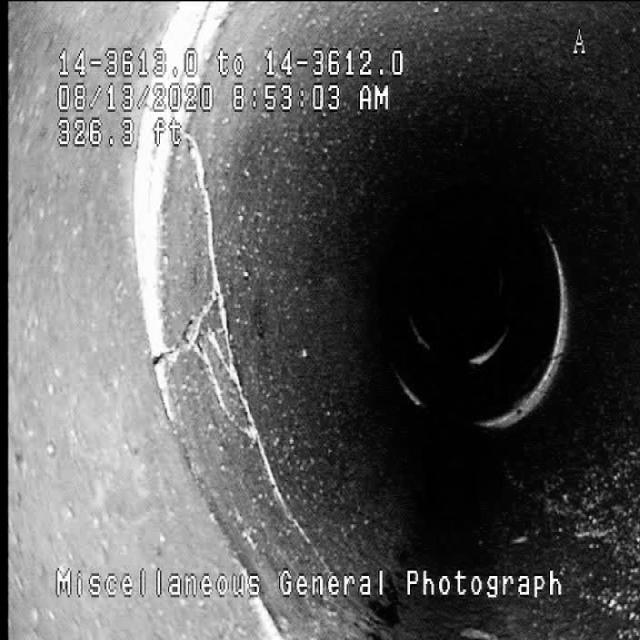Fracture: (142, 165, 326, 532)
